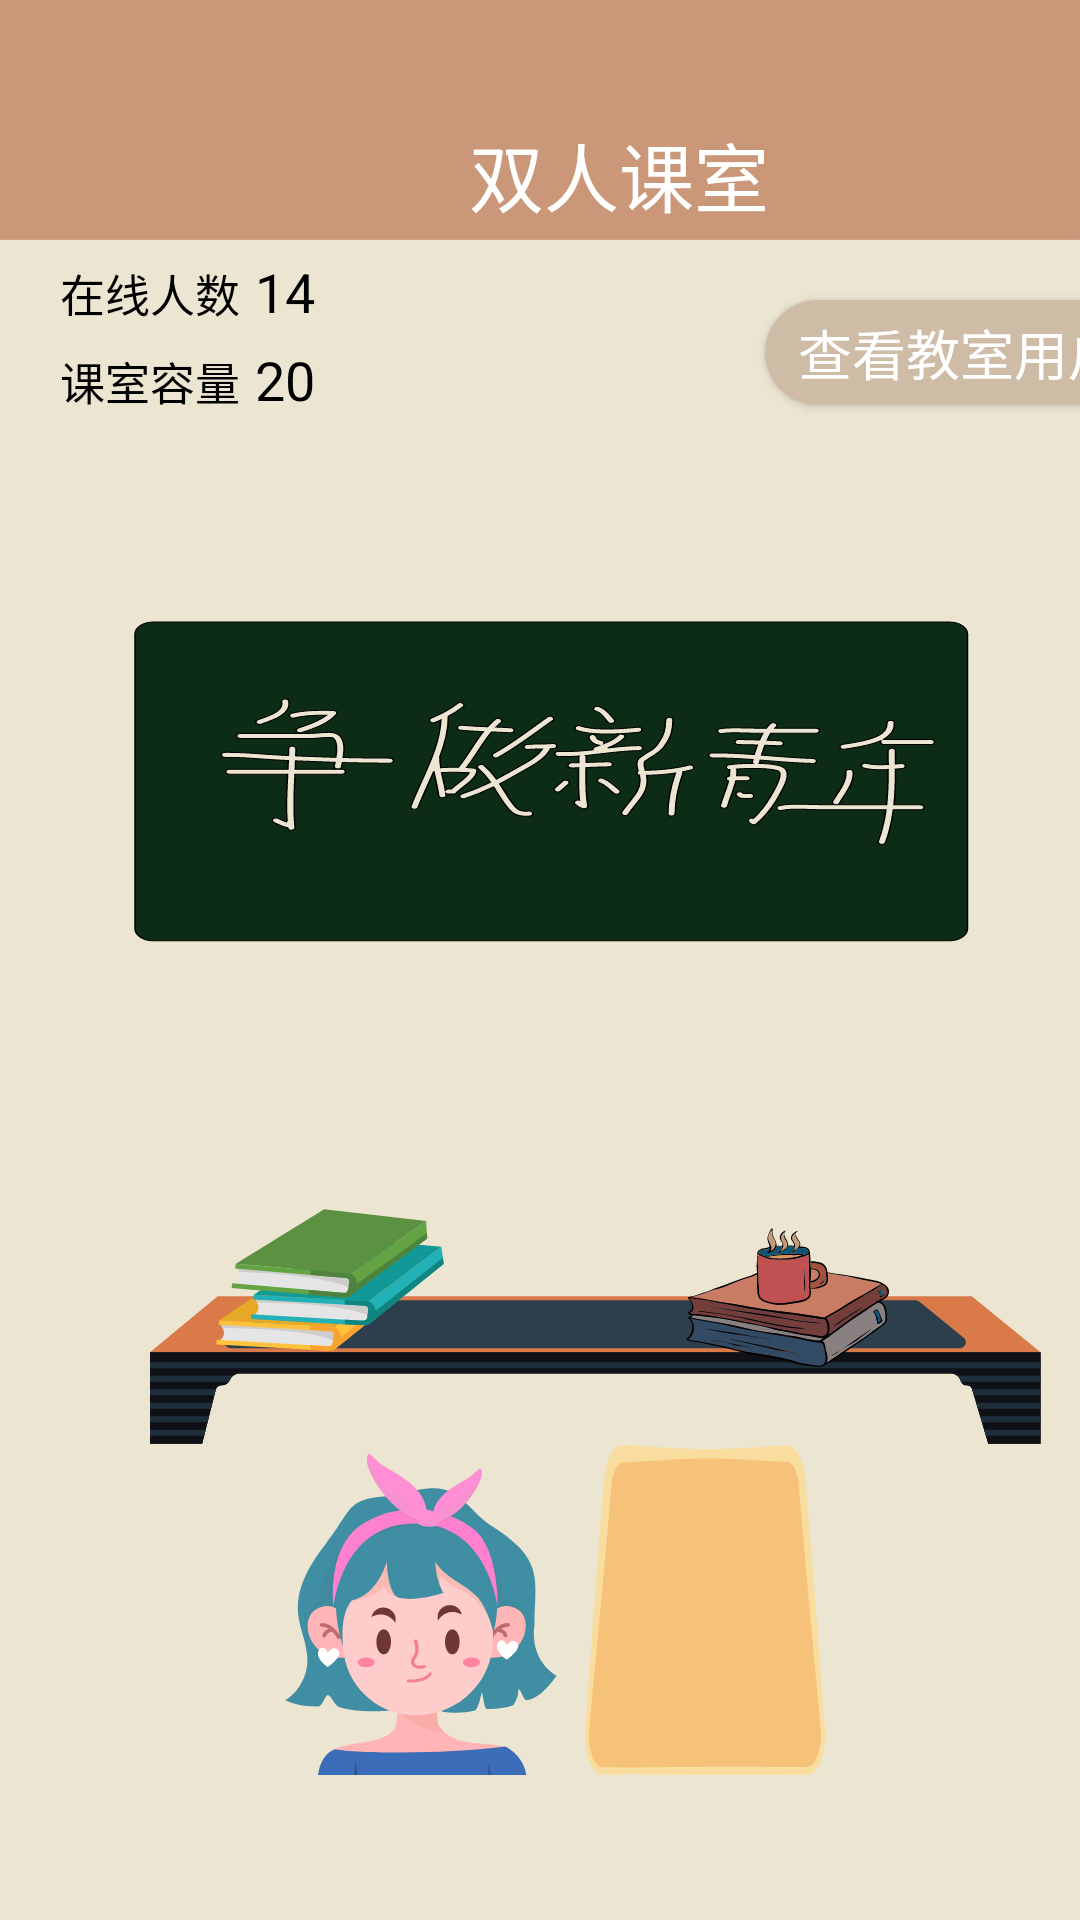

Icons on this 1080 x 1920 Android screen, each with the point to tap as (x,y):
girl: (421,1614)
